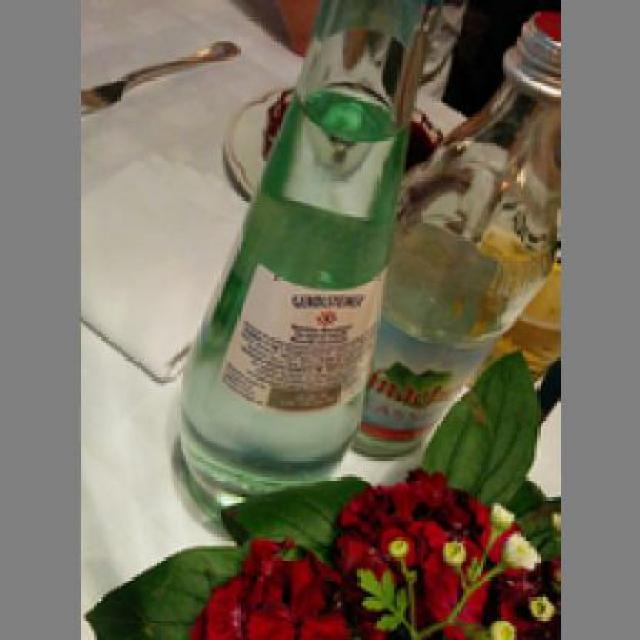Water: (170, 0, 426, 535)
